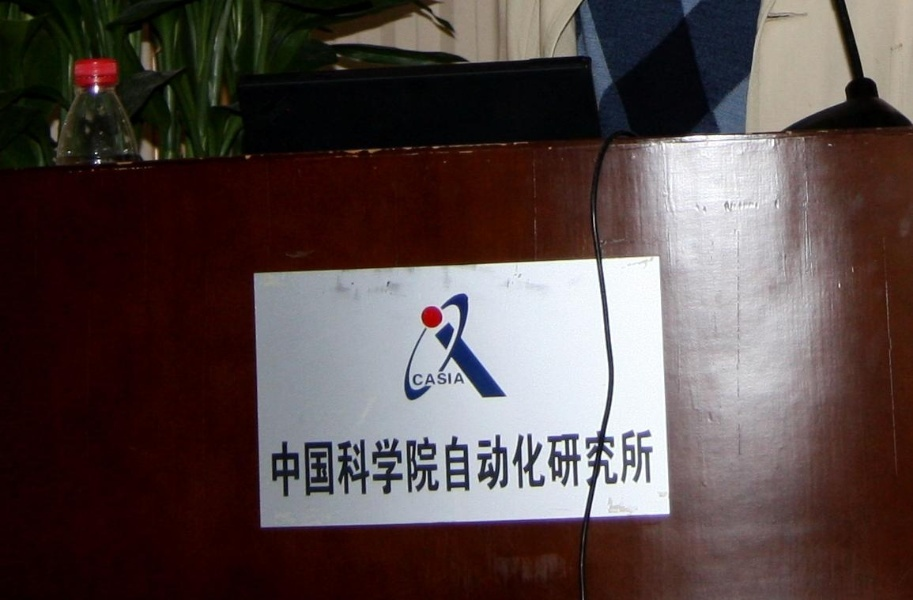text: (273, 427, 288, 502), (289, 427, 304, 502), (305, 427, 320, 502), (321, 427, 336, 502), (337, 427, 352, 502), (353, 427, 368, 502), (369, 427, 384, 502), (385, 427, 400, 502), (401, 427, 416, 502), (417, 427, 432, 502), (433, 427, 448, 502), (449, 427, 464, 502), (465, 427, 480, 502), (481, 427, 496, 502), (497, 427, 512, 502), (513, 427, 528, 502), (529, 427, 544, 502), (545, 427, 560, 502), (561, 427, 576, 502), (577, 427, 592, 502), (593, 427, 608, 502), (609, 427, 624, 502), (625, 427, 640, 502), (641, 427, 656, 502), (265, 427, 272, 502), (657, 427, 661, 502), (449, 373, 465, 387), (417, 373, 432, 387), (433, 373, 448, 387), (412, 373, 416, 387)
